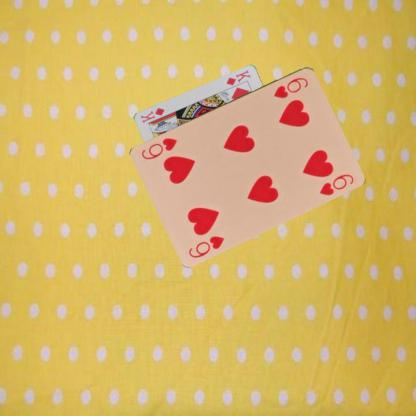6h: (186, 233, 225, 260), (271, 74, 310, 100)
Kd: (224, 68, 251, 86)
